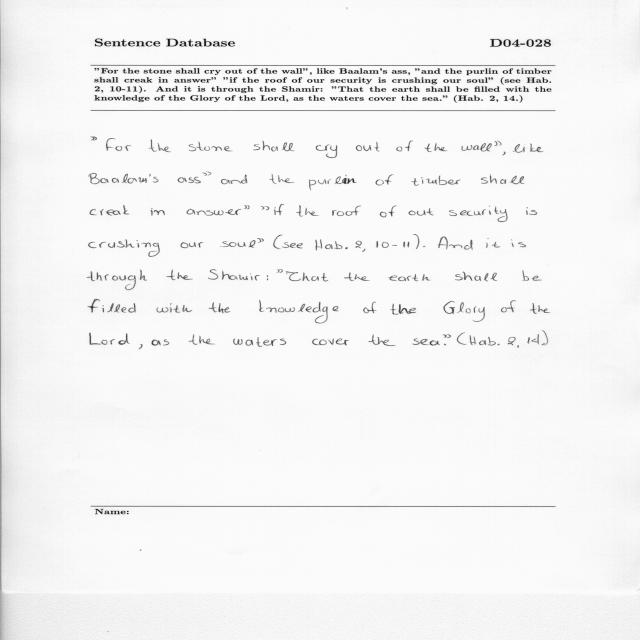word: (259, 300, 339, 323), (88, 239, 160, 257), (87, 270, 147, 290), (449, 206, 508, 222), (443, 301, 485, 322), (89, 173, 159, 184), (309, 175, 357, 190), (88, 299, 136, 313), (208, 270, 260, 281), (233, 337, 286, 347), (411, 176, 461, 186), (438, 236, 473, 250), (90, 333, 130, 345), (253, 141, 295, 152), (189, 142, 233, 152), (481, 175, 524, 185), (286, 272, 329, 282), (273, 235, 303, 249), (455, 272, 497, 282), (90, 205, 129, 215), (315, 239, 348, 250), (470, 335, 500, 346), (106, 138, 131, 151), (187, 209, 241, 215), (369, 334, 396, 346), (157, 304, 192, 313), (388, 274, 431, 281), (332, 206, 361, 216), (149, 139, 171, 152), (189, 334, 215, 345), (296, 205, 319, 217), (316, 145, 337, 158), (513, 144, 543, 153), (166, 270, 193, 280), (221, 175, 247, 185), (312, 339, 349, 346), (269, 174, 294, 184), (391, 304, 416, 314), (462, 143, 492, 151), (344, 272, 370, 281), (209, 302, 230, 313), (522, 270, 542, 281), (530, 303, 550, 314), (356, 142, 380, 151), (408, 208, 434, 216), (425, 143, 448, 152), (376, 175, 394, 186), (380, 206, 396, 218), (382, 241, 409, 248), (413, 339, 440, 346), (396, 141, 413, 152), (501, 301, 516, 313), (220, 241, 245, 247), (364, 302, 377, 313), (486, 238, 500, 248), (178, 177, 201, 183), (181, 242, 204, 248), (457, 332, 467, 345), (355, 241, 366, 252), (511, 240, 526, 248), (527, 334, 539, 344), (152, 339, 169, 346), (151, 208, 165, 216), (274, 205, 284, 216), (413, 234, 419, 249), (526, 207, 537, 215), (542, 331, 548, 345), (444, 335, 451, 346), (507, 337, 516, 345), (249, 240, 256, 248), (261, 206, 270, 210), (495, 141, 502, 146), (257, 238, 264, 243), (91, 137, 97, 141), (277, 269, 283, 273), (202, 172, 207, 176), (244, 205, 249, 209), (139, 344, 143, 349), (376, 241, 378, 248), (503, 152, 506, 156), (443, 335, 447, 338), (208, 172, 211, 175), (517, 345, 519, 348), (542, 343, 545, 345), (267, 276, 268, 281), (423, 246, 426, 247)
